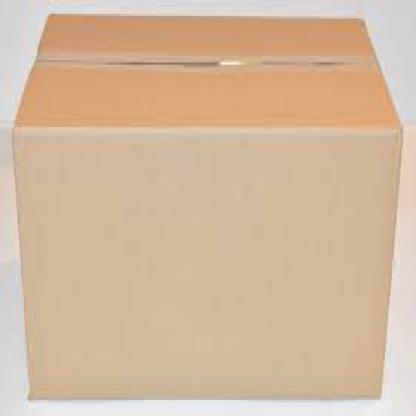box: (10, 12, 400, 398)
